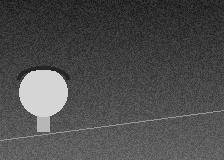no_helmet: (19, 66, 67, 121)
